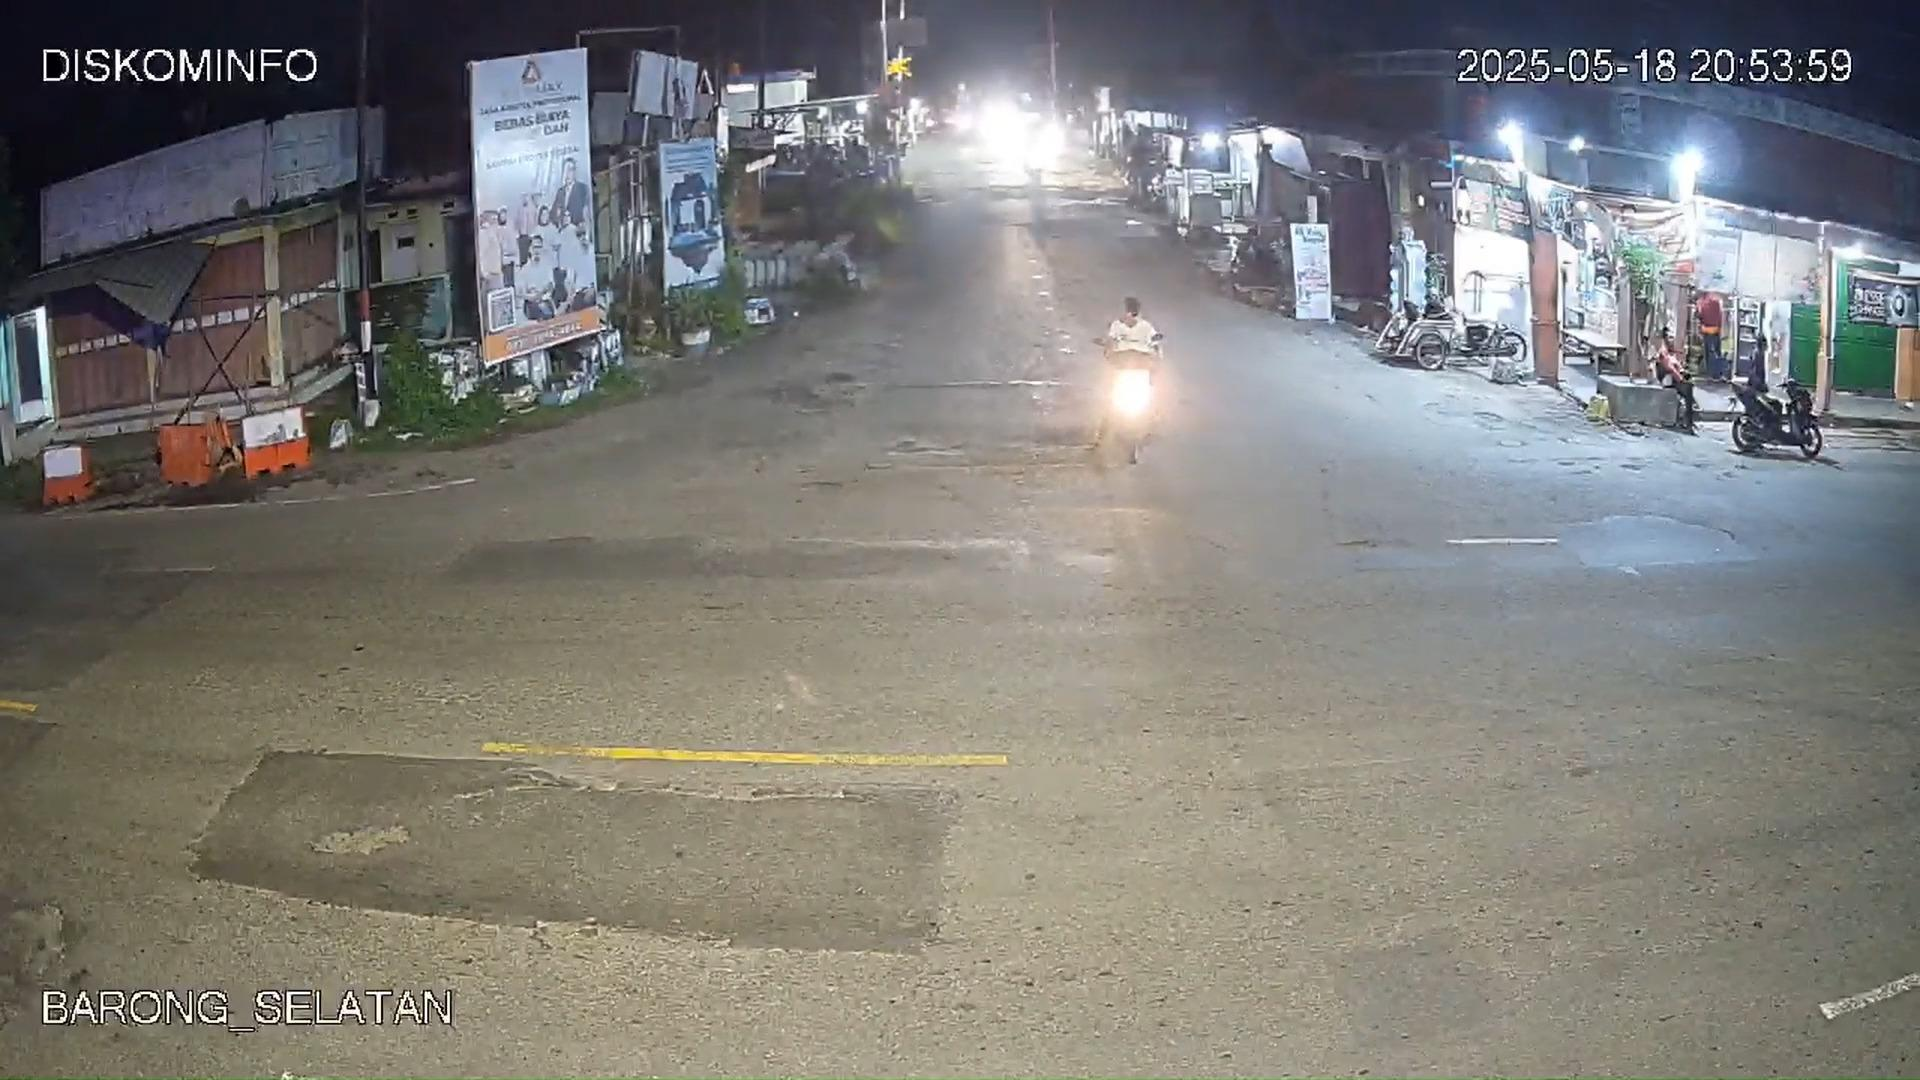Motor: (1079, 293, 1159, 468), (1731, 331, 1816, 452)
